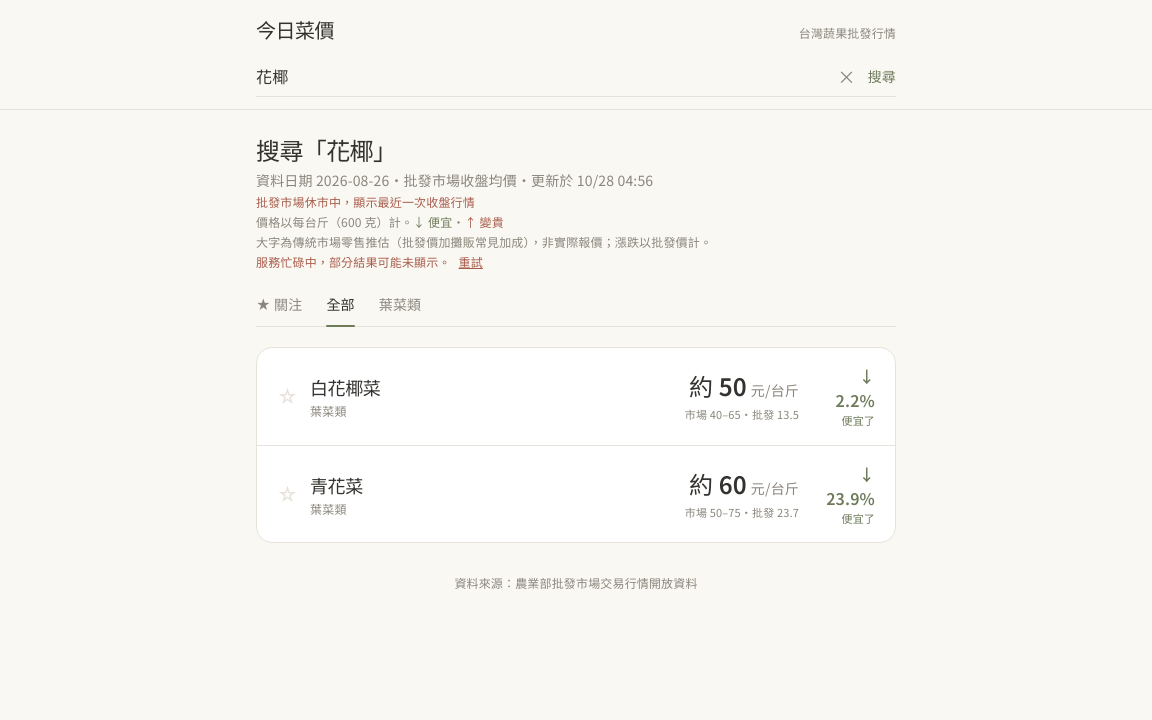
it: App — a shared live-search result › spends no request when 搜尋 asks a new question
expect the text "服務忙碌中，部分結果可能未顯示。 重試" is shown: met, box [256,253,483,270]
Replace the text in the search field with placeholder "搜尋蔬果（例如：高麗菜、番茄）" with "高麗菜" at (541, 76), box [256,56,826,96]
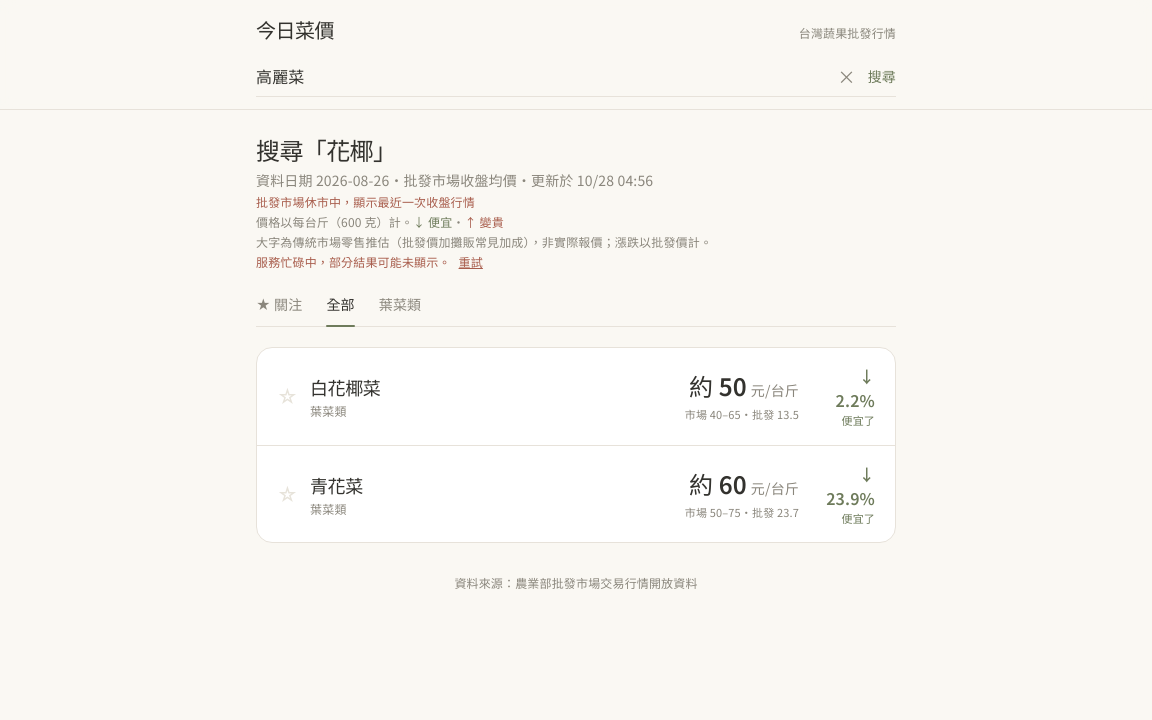
Submit the form with placeholder "搜尋蔬果", box [256,56,896,97]
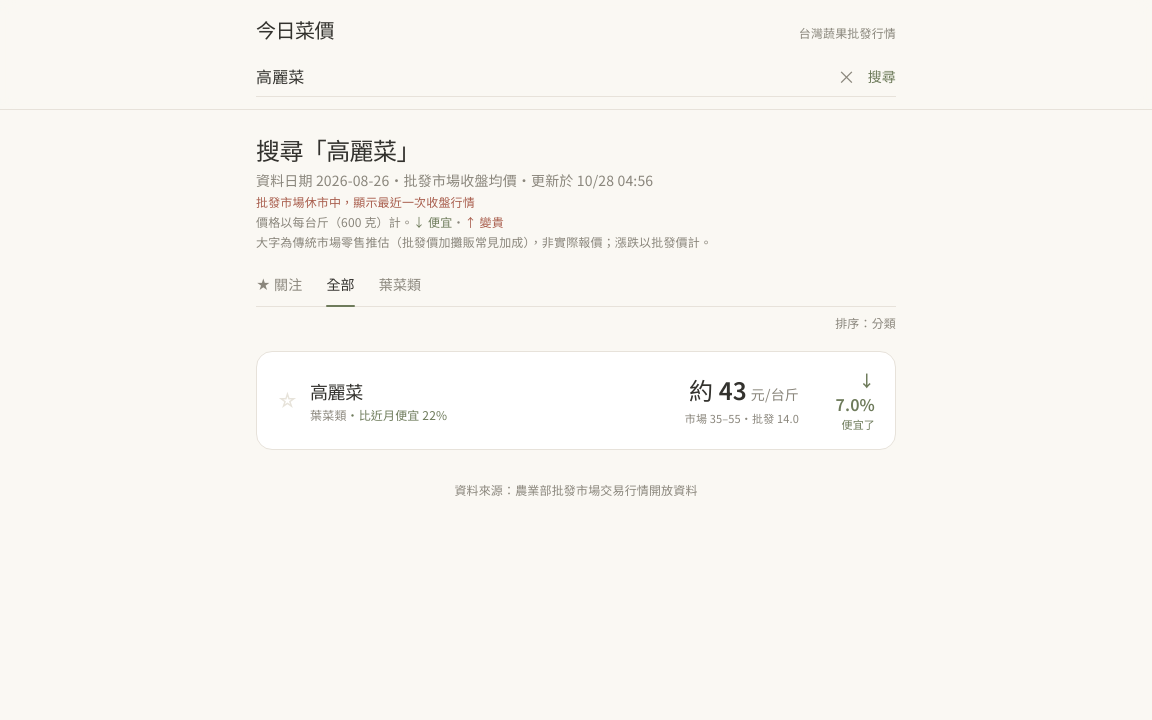
expect the element with test id "produce-list" shows "高麗菜": met, box [310,378,363,404]
